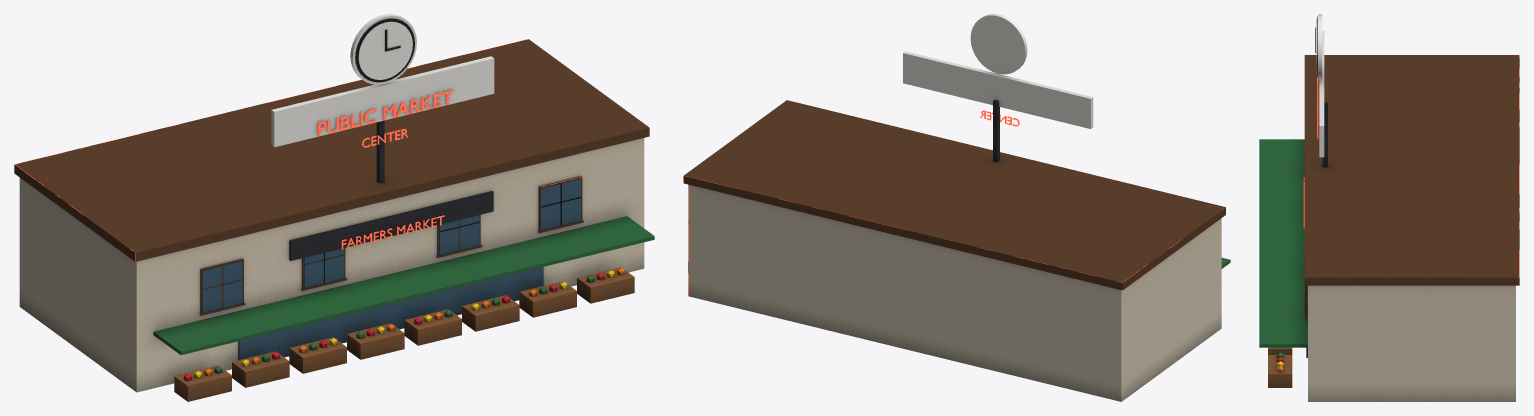
Rendered from mercado_pike.glb.
The picture shows the model from 3 angles, left to right: view 1: azimuth 30°, elevation 25°; view 2: azimuth 150°, elevation 25°; view 3: azimuth 270°, elevation 25°; orthographic projection. The views are drawn at different scales.
Parts seen in each view (by area): view 1: mercado_pike; view 2: mercado_pike; view 3: mercado_pike.
Boxes of the visible parts, bbox=[...] form: mercado_pike: bbox=[14, 14, 654, 401]; mercado_pike: bbox=[683, 14, 1230, 401]; mercado_pike: bbox=[1259, 14, 1519, 401].
Bounding box in the file's own units: 30.4 × 17.5 × 15.
Materials: 1 (1 with a texture image).
